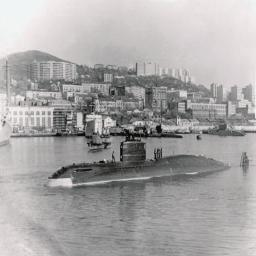submarine: (45, 129, 256, 188)
